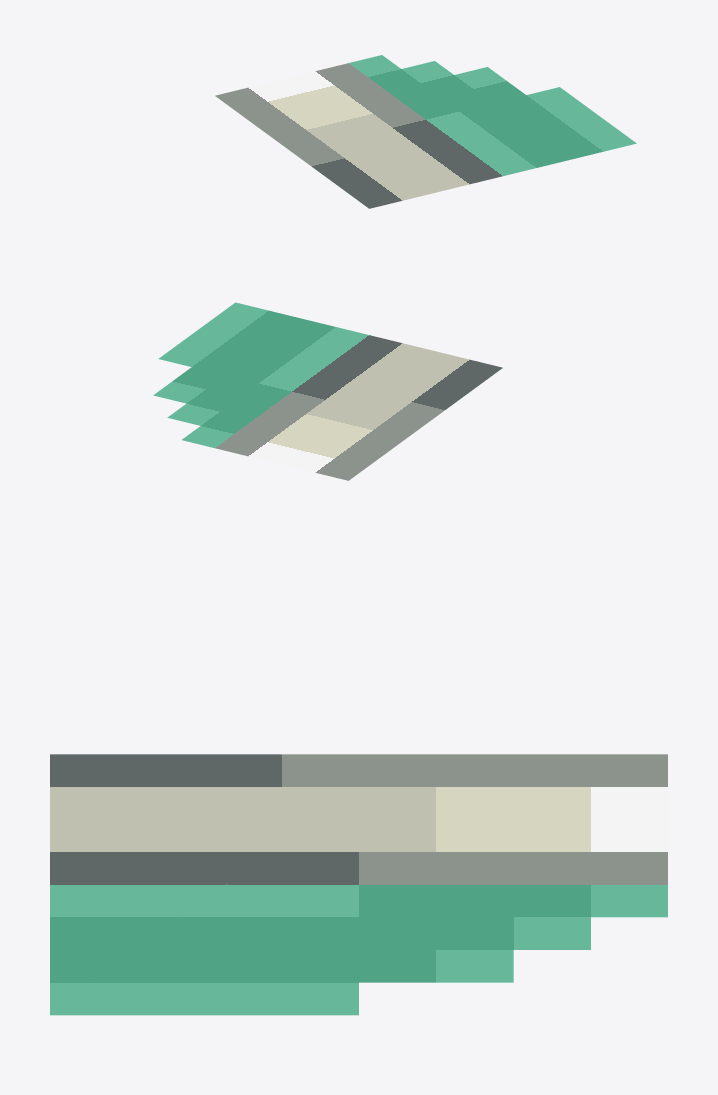
The picture shows the model from 3 angles, top to bottom: view 1: azimuth 30°, elevation 25°; view 2: azimuth 150°, elevation 25°; view 3: azimuth 270°, elevation 25°; orthographic projection. The views are drawn at different scales.
Size of the model in its own units: 1 by 0 by 0.5.
1 material, 1 textured.
